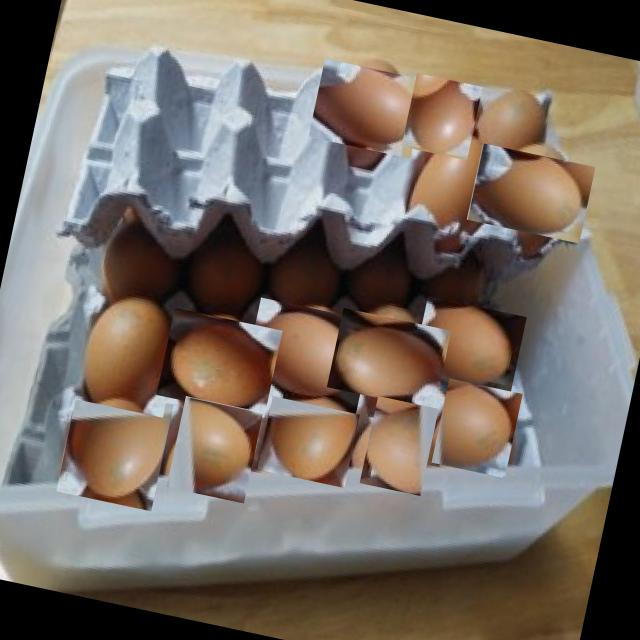eggs: (244, 292, 370, 418), (71, 283, 187, 418), (54, 383, 174, 511), (160, 303, 278, 422), (395, 119, 504, 247), (410, 294, 524, 408), (473, 137, 588, 250), (332, 301, 445, 415), (313, 53, 424, 164), (162, 398, 266, 502), (256, 394, 360, 488), (428, 381, 524, 476), (354, 400, 444, 490), (400, 72, 482, 160), (472, 86, 554, 160)
